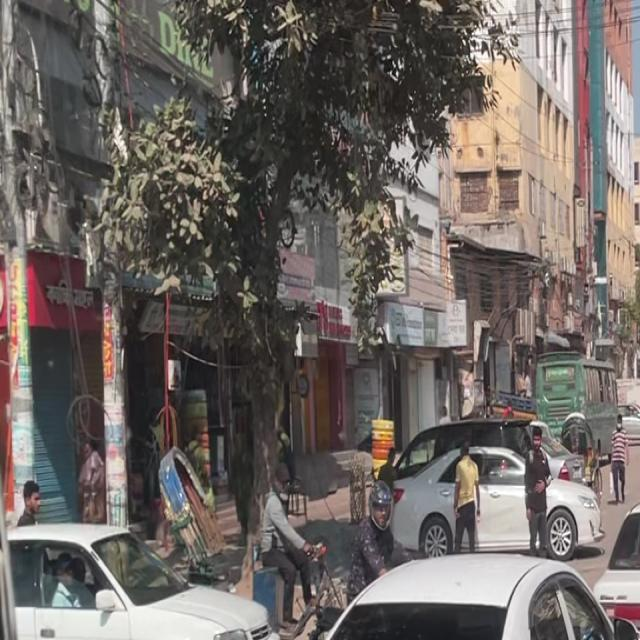car: (229, 536, 640, 640), (0, 514, 269, 640), (385, 436, 609, 562), (591, 488, 640, 640), (584, 599, 640, 640)
